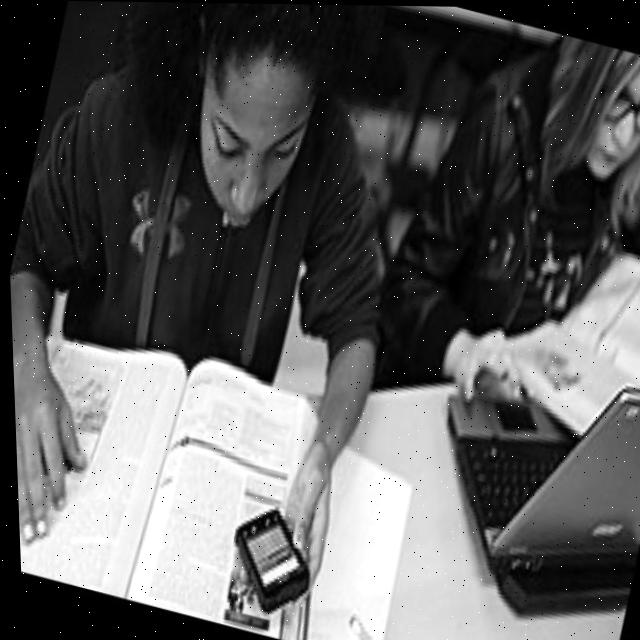phone: (213, 498, 322, 621)
